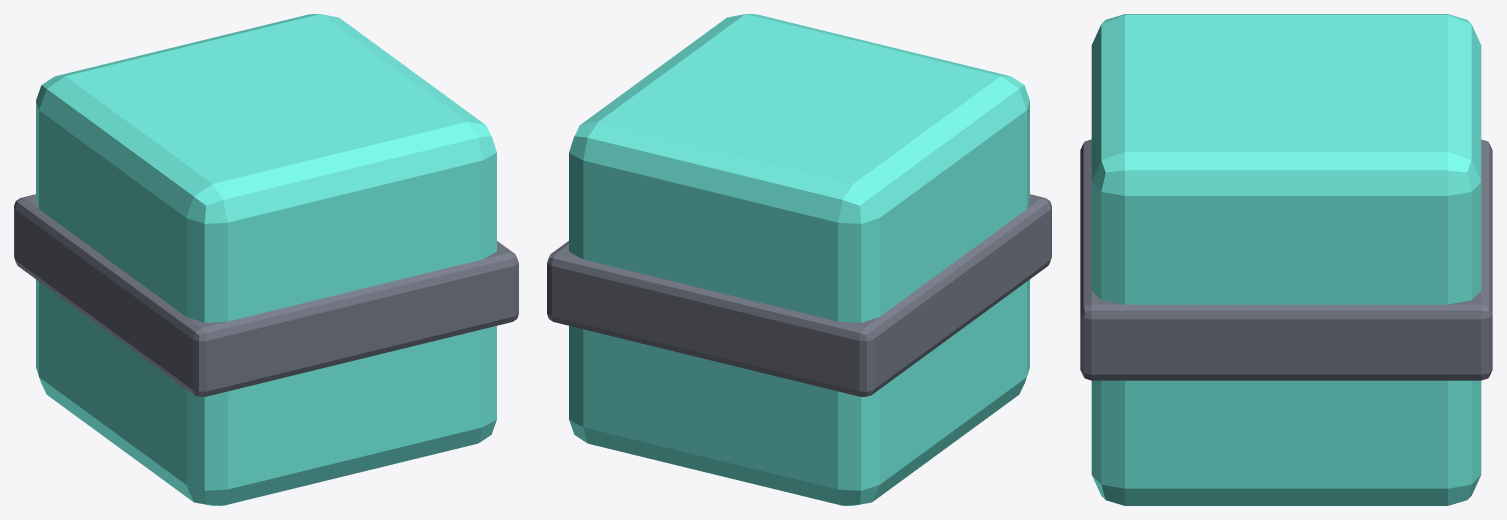
File: Nanocomposite.fbx
3 renders of one model, left to right at view 1: azimuth 30°, elevation 25°; view 2: azimuth 150°, elevation 25°; view 3: azimuth 270°, elevation 25°, orthographic. The views are drawn at different scales.
Visible parts, largest first — view 1: MainMesh; view 2: MainMesh; view 3: MainMesh.
Boxes of the visible parts, left/top/right/bottom form: MainMesh: left=14, top=14, right=518, bottom=505; MainMesh: left=547, top=14, right=1051, bottom=505; MainMesh: left=1080, top=14, right=1492, bottom=505.
Size of the model in its own units: 1.48 by 1.4 by 1.48.
